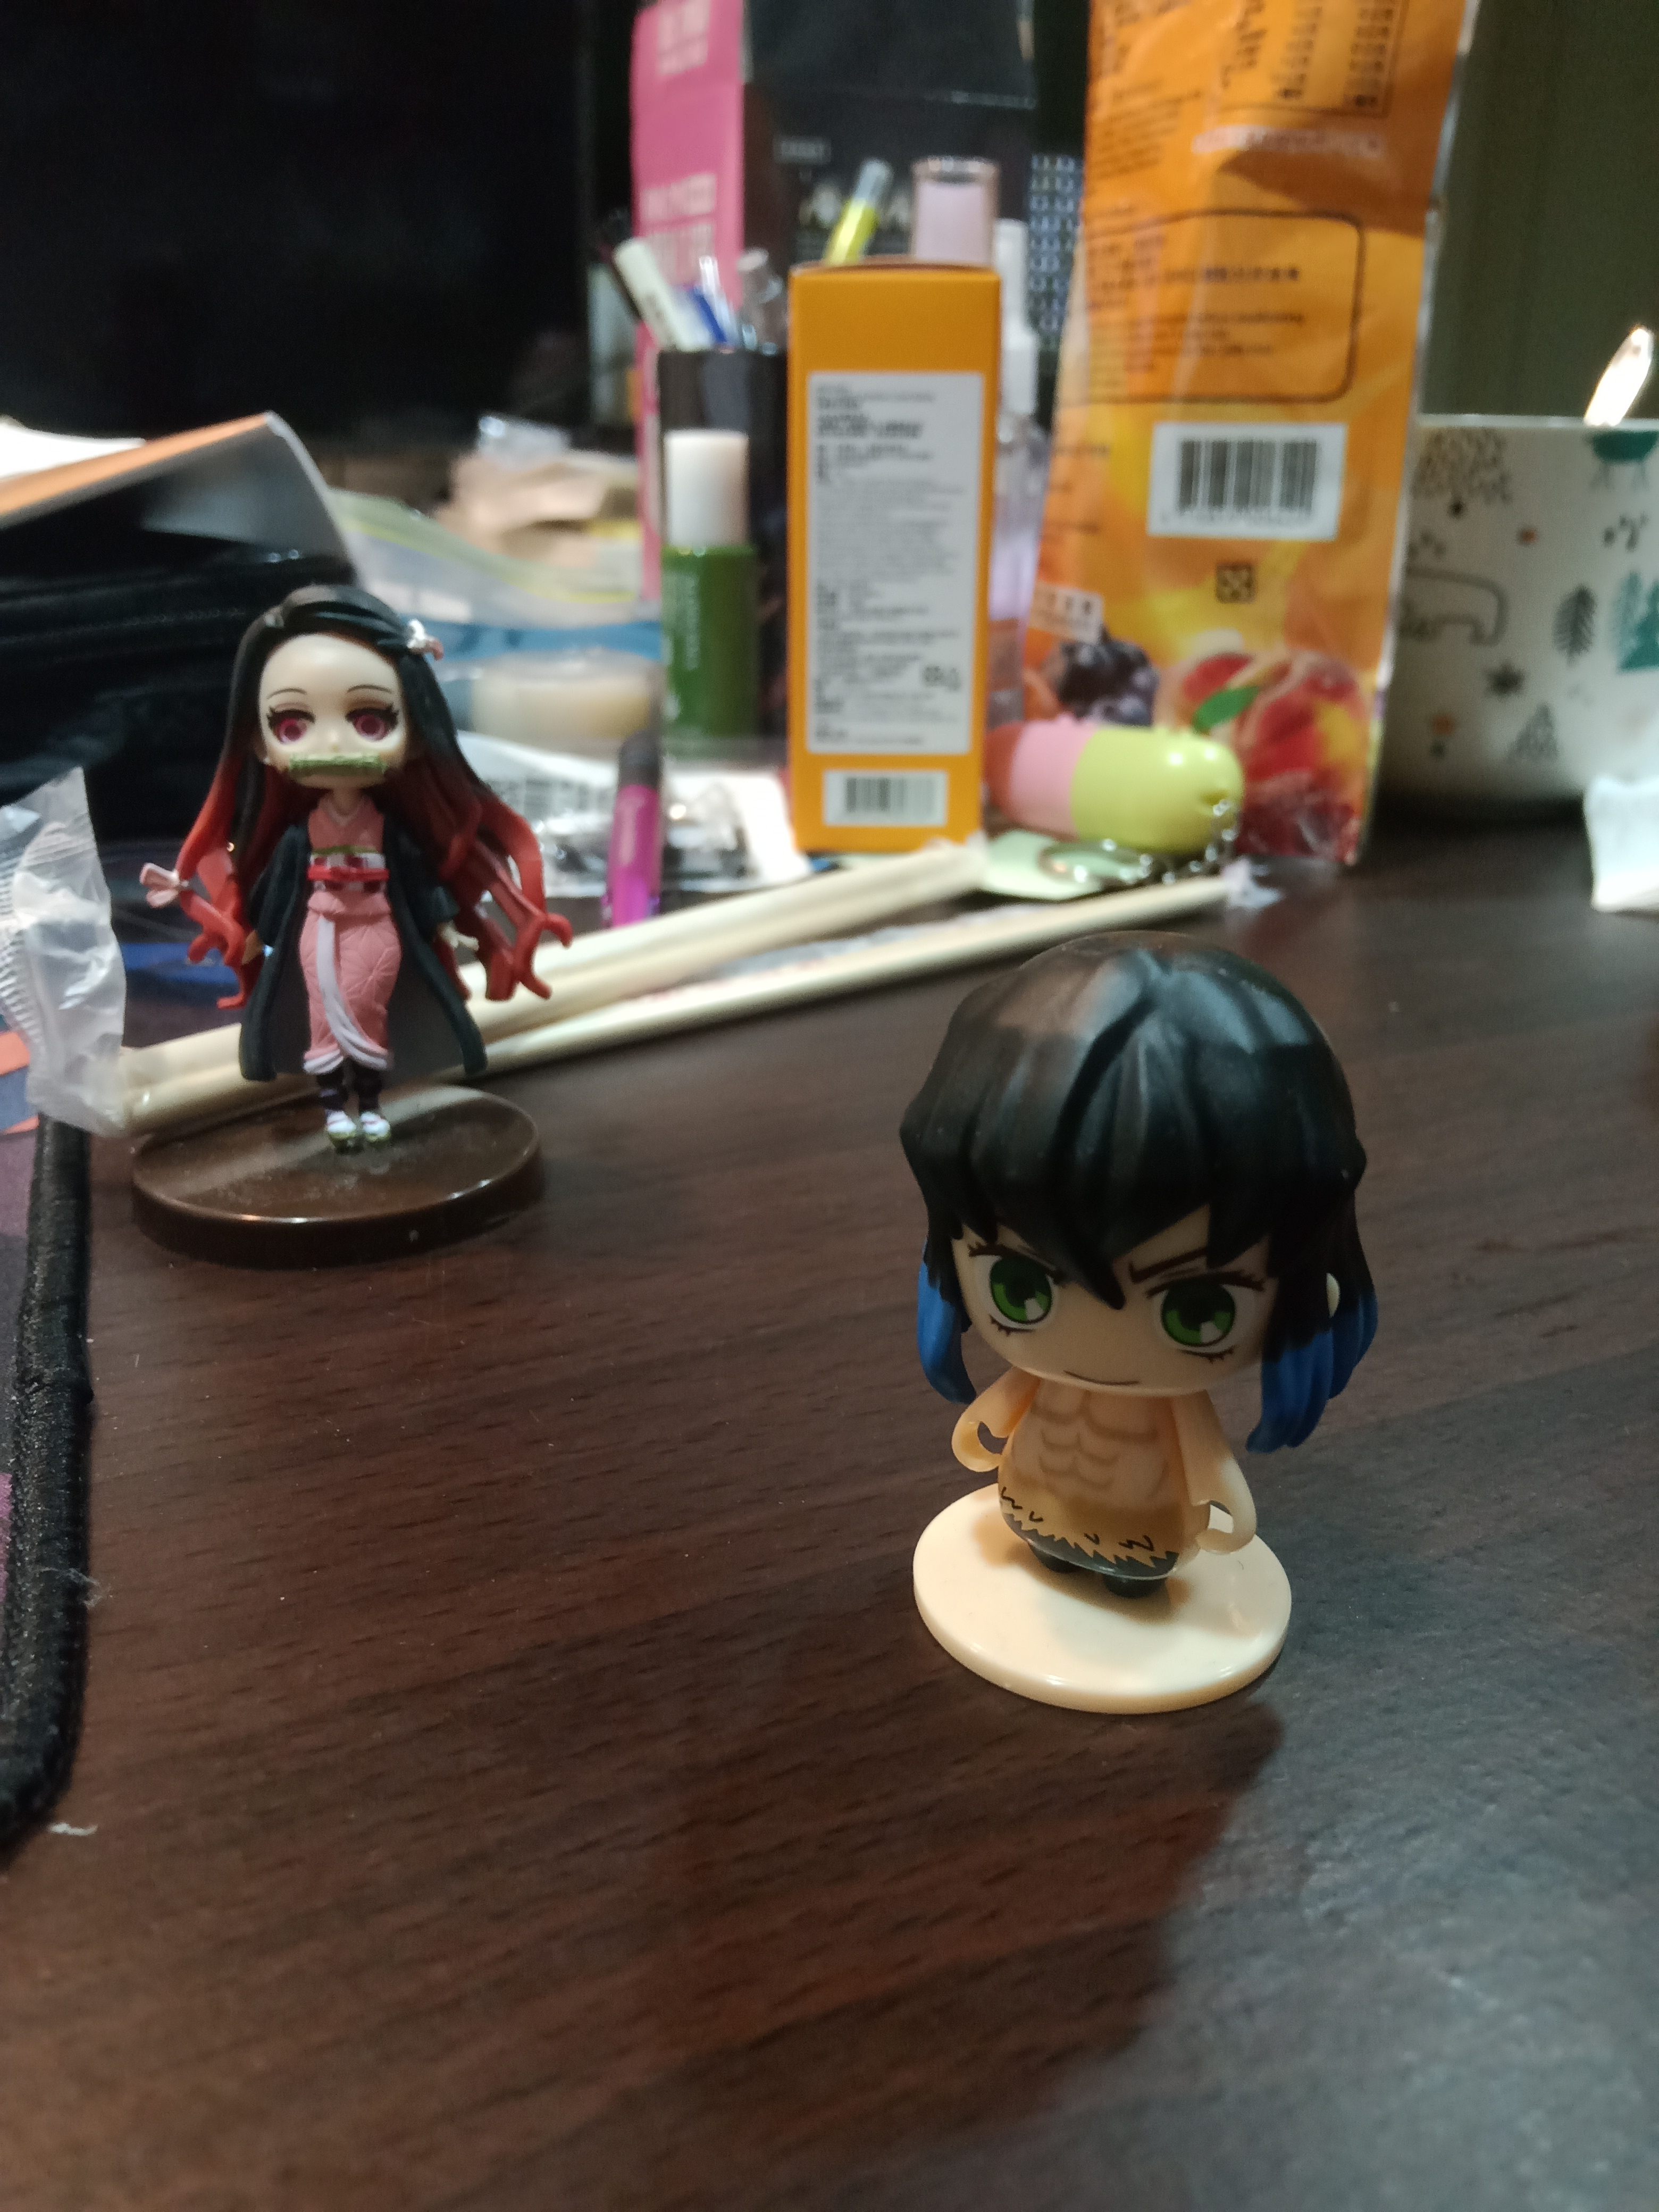Inosuke: (884, 918, 1389, 1724)
Nezuko: (118, 577, 584, 1280)
